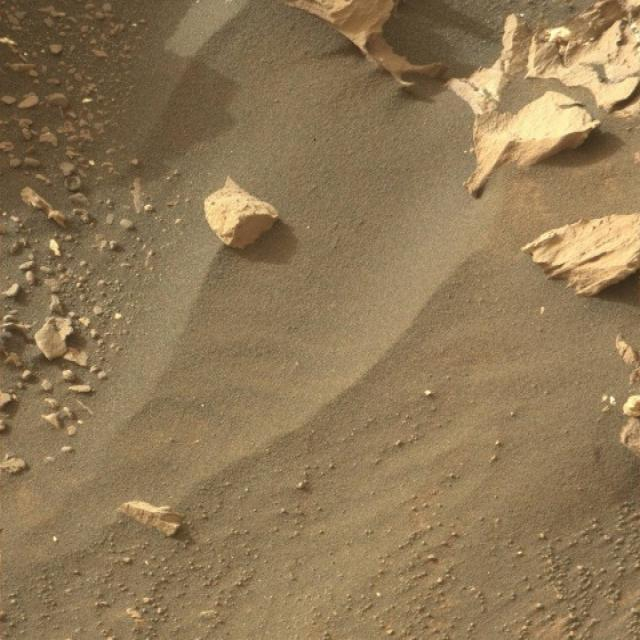rock: (521, 214, 640, 296), (202, 183, 282, 255)
